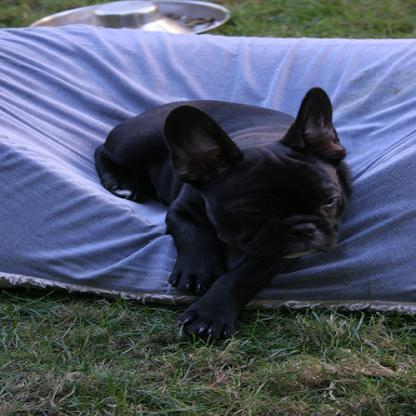dog: (96, 86, 347, 343)
